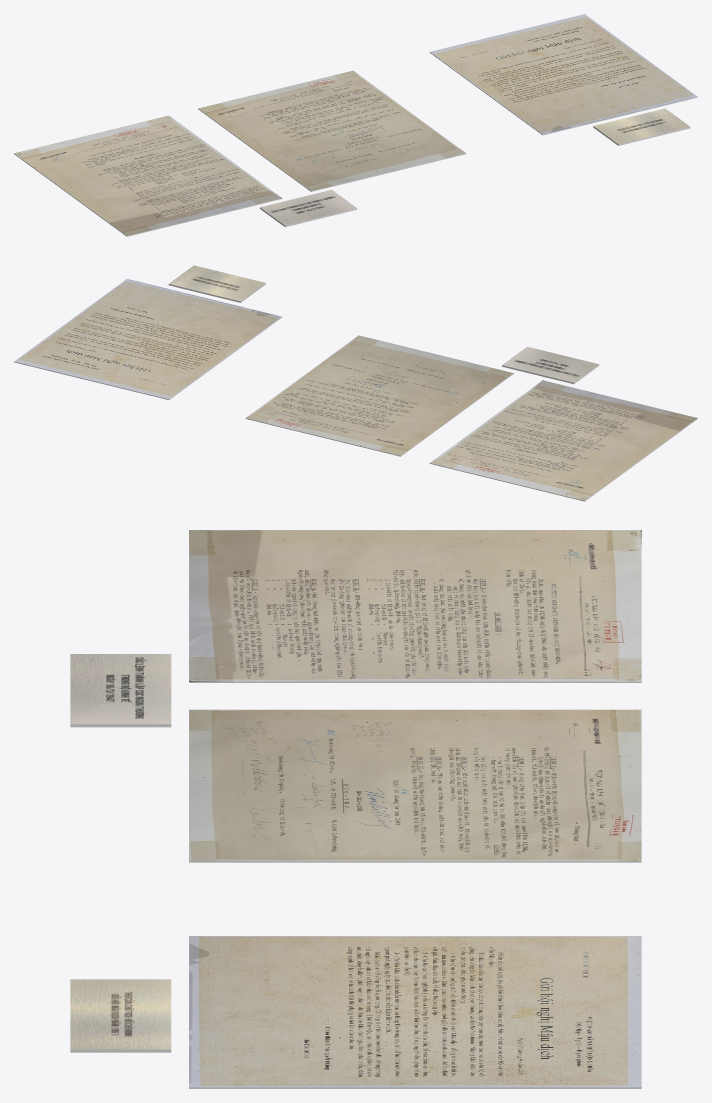
Rendered from ban_sao_ttltqg_3_sac_lenh_thu_gui_hoi_nghi.glb.
The picture shows the model from 3 angles, top to bottom: view 1: azimuth 30°, elevation 25°; view 2: azimuth 150°, elevation 25°; view 3: azimuth 270°, elevation 25°; orthographic projection. The views are drawn at different scales.
Visible parts, largest first — view 1: Box, Box4, Box3, Box1, Box2, Mesh1_FrontColor_0, Mesh5_FrontColor_0, Mesh4_FrontColor_0; view 2: Box3, Box4, Box, Box2, Box1, Mesh5_FrontColor_0, Mesh4_FrontColor_0, Mesh1_FrontColor_0; view 3: Box4, Box, Box3, Box2, Box1, Mesh1_FrontColor_0, Mesh4_FrontColor_0, Mesh5_FrontColor_0.
Boxes of the visible parts, x1=… form: Box: x1=430, y1=14, x2=697, y2=134; Box4: x1=198, y1=70, x2=465, y2=191; Box3: x1=14, y1=115, x2=281, y2=235; Box1: x1=260, y1=189, x2=356, y2=225; Box2: x1=594, y1=108, x2=689, y2=144; Mesh1_FrontColor_0: x1=429, y1=52, x2=697, y2=135; Mesh5_FrontColor_0: x1=198, y1=108, x2=466, y2=191; Mesh4_FrontColor_0: x1=14, y1=153, x2=282, y2=236; Box3: x1=430, y1=380, x2=697, y2=500; Box4: x1=246, y1=335, x2=513, y2=455; Box: x1=14, y1=279, x2=281, y2=399; Box2: x1=169, y1=265, x2=265, y2=301; Box1: x1=502, y1=346, x2=598, y2=382; Mesh5_FrontColor_0: x1=245, y1=373, x2=513, y2=456; Mesh4_FrontColor_0: x1=429, y1=418, x2=697, y2=501; Mesh1_FrontColor_0: x1=14, y1=317, x2=282, y2=399; Box4: x1=189, y1=709, x2=641, y2=861; Box: x1=189, y1=936, x2=641, y2=1087; Box3: x1=189, y1=530, x2=641, y2=681; Box2: x1=70, y1=979, x2=171, y2=1049; Box1: x1=70, y1=654, x2=171, y2=724; Mesh1_FrontColor_0: x1=189, y1=1087, x2=641, y2=1088; Mesh4_FrontColor_0: x1=189, y1=681, x2=641, y2=682; Mesh5_FrontColor_0: x1=189, y1=861, x2=641, y2=862.
Bounding box in the file's own units: 7.69 × 0.02 × 3.33.
6 materials, 5 textured.
